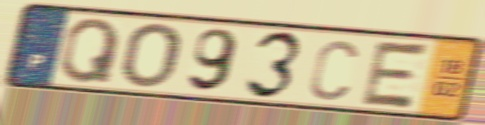3: (239, 28, 306, 101)
9: (185, 27, 240, 94)
C: (306, 37, 360, 103)
E: (357, 38, 434, 111)
O: (118, 21, 185, 90)
Q: (58, 16, 124, 85)
